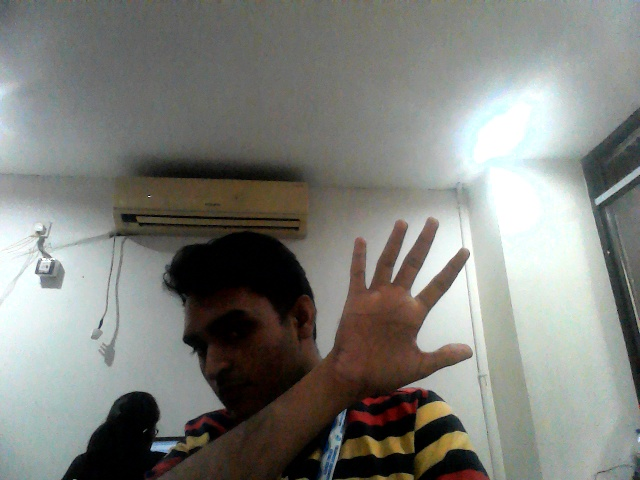palm: (331, 210, 475, 390)
